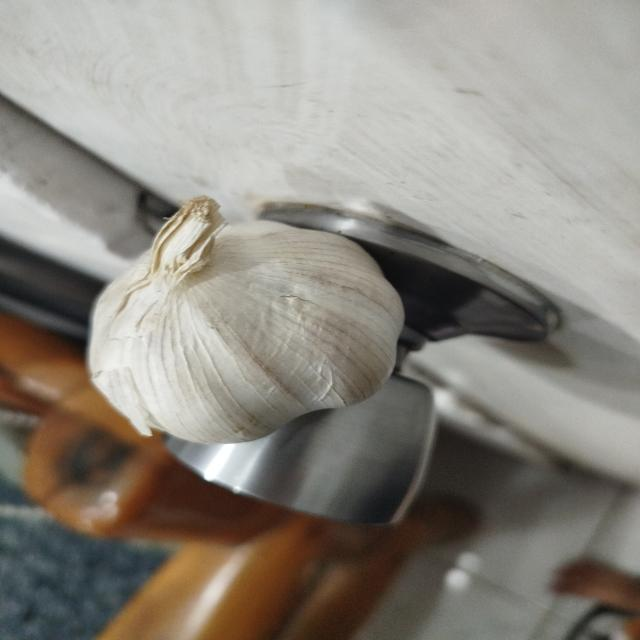garlic: (85, 195, 406, 445)
